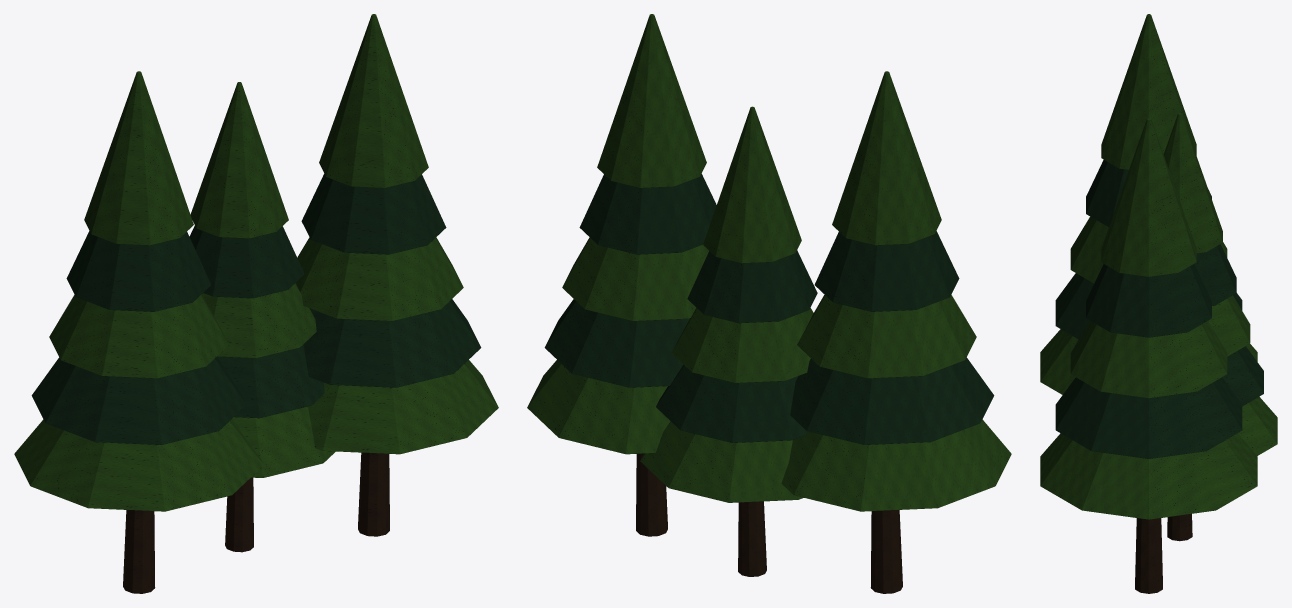
Rendered from PROP-F9037A353B38_lod1.glb.
3 views of the same model, side by side, from view 1: azimuth 30°, elevation 25°; view 2: azimuth 150°, elevation 25°; view 3: azimuth 270°, elevation 25° (orthographic). The views are drawn at different scales.
Parts seen in each view (by area): view 1: layered_conifer_crown.006, layered_conifer_crown.007, trunk.003; view 2: layered_conifer_crown.006, layered_conifer_crown.007, trunk.003; view 3: layered_conifer_crown.006, layered_conifer_crown.007, trunk.003.
Boxes of the visible parts, left/top/right/bottom form: layered_conifer_crown.006: left=14, top=14, right=498, bottom=511; layered_conifer_crown.007: left=31, top=173, right=481, bottom=444; trunk.003: left=123, top=452, right=389, bottom=593; layered_conifer_crown.006: left=527, top=14, right=1011, bottom=511; layered_conifer_crown.007: left=544, top=173, right=994, bottom=444; trunk.003: left=636, top=453, right=902, bottom=593; layered_conifer_crown.006: left=1040, top=14, right=1277, bottom=519; layered_conifer_crown.007: left=1055, top=160, right=1263, bottom=458; trunk.003: left=1135, top=514, right=1192, bottom=593.
Size of the model in its own units: 7.71 by 8.39 by 3.85.
3 materials, 3 textured.
